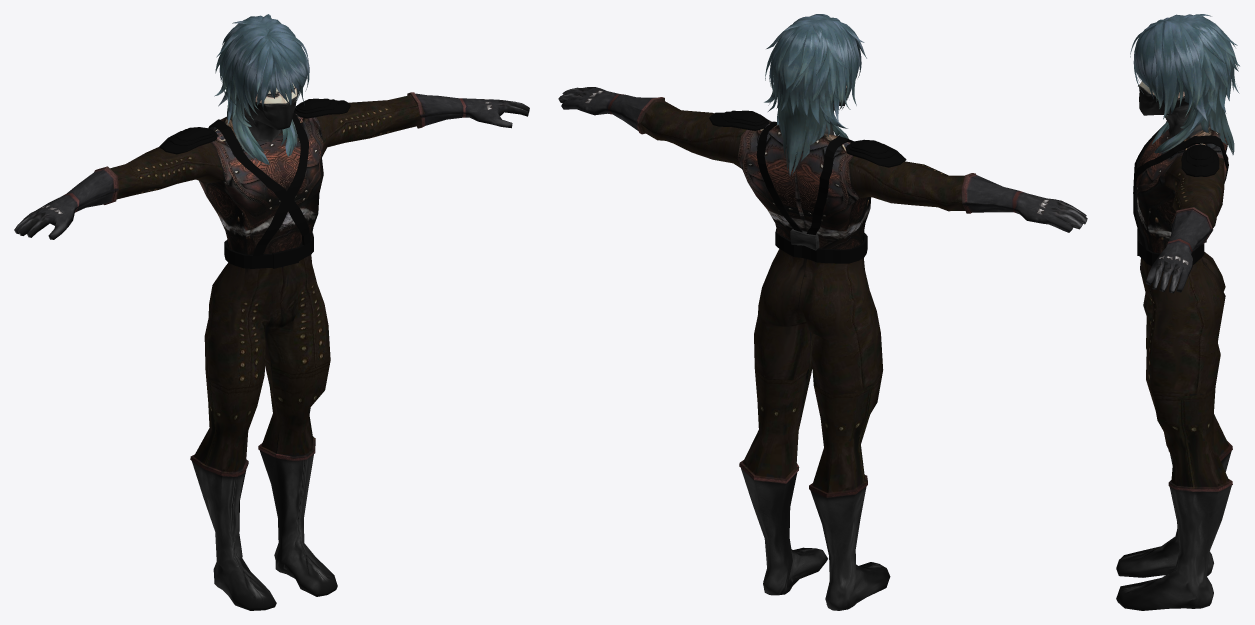
File: Character.obj
The picture shows the model from 3 angles, left to right: view 1: azimuth 30°, elevation 25°; view 2: azimuth 150°, elevation 25°; view 3: azimuth 270°, elevation 25°; orthographic projection. The views are drawn at different scales.
Parts seen in each view (by area): view 1: basemesh_male_shoes, hair1, pCube5; view 2: basemesh_male_shoes, hair1, pCube5; view 3: basemesh_male_shoes, hair1, pCube5, pCube7, pCube9, pCube8.
Boxes of the visible parts, x1,y1,x2,y2 form: basemesh_male_shoes: (14, 83, 529, 610); hair1: (214, 14, 309, 170); pCube5: (208, 112, 313, 268); basemesh_male_shoes: (558, 86, 1087, 610); hair1: (764, 14, 866, 175); pCube5: (756, 121, 867, 263); basemesh_male_shoes: (1116, 81, 1232, 610); hair1: (1130, 14, 1239, 154); pCube5: (1133, 125, 1228, 265); pCube7: (1181, 149, 1219, 176); pCube9: (1189, 144, 1211, 159); pCube8: (1186, 146, 1214, 166).
Bounding box in the file's own units: 187 × 195 × 38.75.
4 materials, 3 textured.
